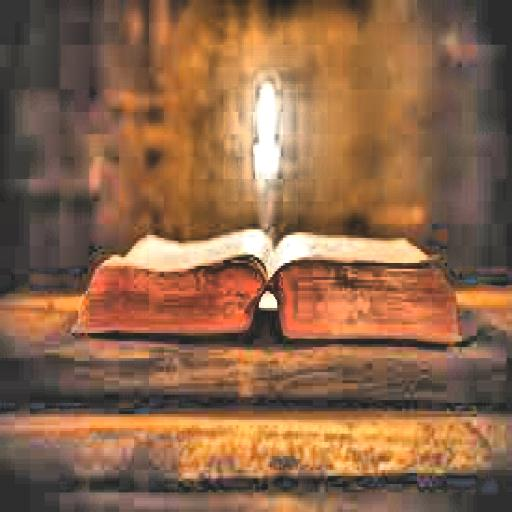fire: (250, 81, 288, 165)
